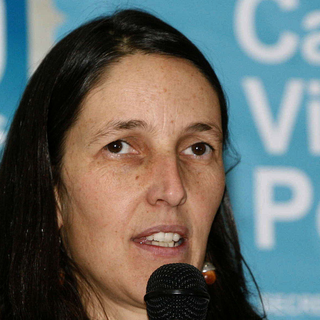eye: (96, 135, 145, 162), (177, 139, 219, 160)
